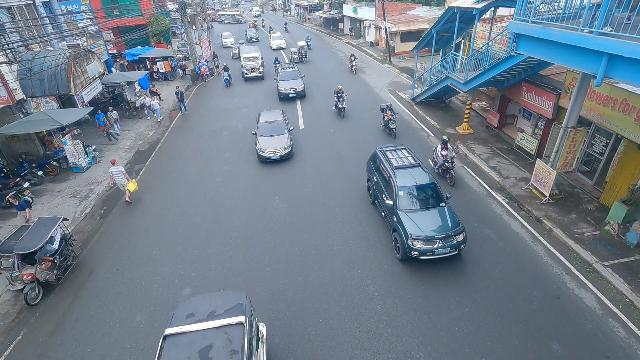car: (366, 144, 469, 265), (251, 108, 294, 165), (272, 64, 306, 101), (269, 33, 287, 51), (220, 31, 236, 48), (245, 27, 261, 44)
jeepney: (236, 46, 265, 82), (215, 10, 247, 24), (208, 10, 218, 22)
motorcycle: (427, 136, 465, 188), (379, 102, 400, 141), (332, 84, 348, 119), (347, 50, 360, 76), (221, 63, 232, 87), (273, 56, 281, 75), (304, 33, 312, 50), (258, 3, 265, 13), (283, 21, 289, 32), (268, 24, 273, 35), (261, 18, 265, 28), (241, 6, 245, 12)
van: (252, 6, 261, 17)
